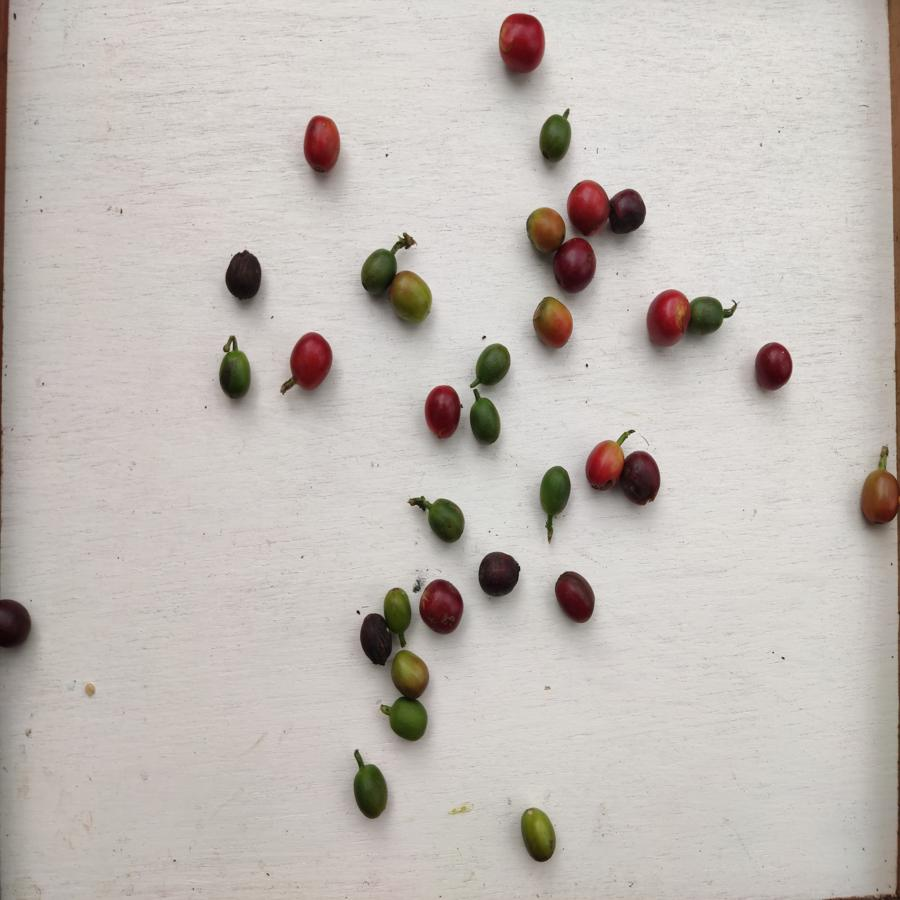Inmaduro: (351, 764, 394, 821), (214, 346, 257, 403), (384, 696, 431, 742), (686, 296, 732, 339), (359, 246, 396, 298), (538, 112, 574, 165), (425, 497, 466, 542), (468, 397, 507, 444), (536, 464, 571, 516), (473, 341, 511, 388), (381, 586, 414, 634)
Maduro: (498, 11, 547, 76), (286, 331, 336, 394), (644, 286, 691, 351), (565, 177, 610, 236), (299, 114, 343, 174), (422, 384, 463, 441), (581, 440, 625, 491)
Pinton: (388, 271, 436, 323), (517, 806, 561, 862), (857, 467, 899, 525), (530, 295, 576, 346), (389, 647, 431, 699), (523, 206, 563, 254)
Sobremaduro: (418, 579, 466, 634), (552, 569, 597, 624), (623, 451, 661, 511), (476, 549, 522, 598), (754, 341, 796, 394), (224, 248, 265, 301), (556, 239, 596, 292), (611, 186, 646, 240), (356, 612, 391, 666), (1, 591, 29, 658)
